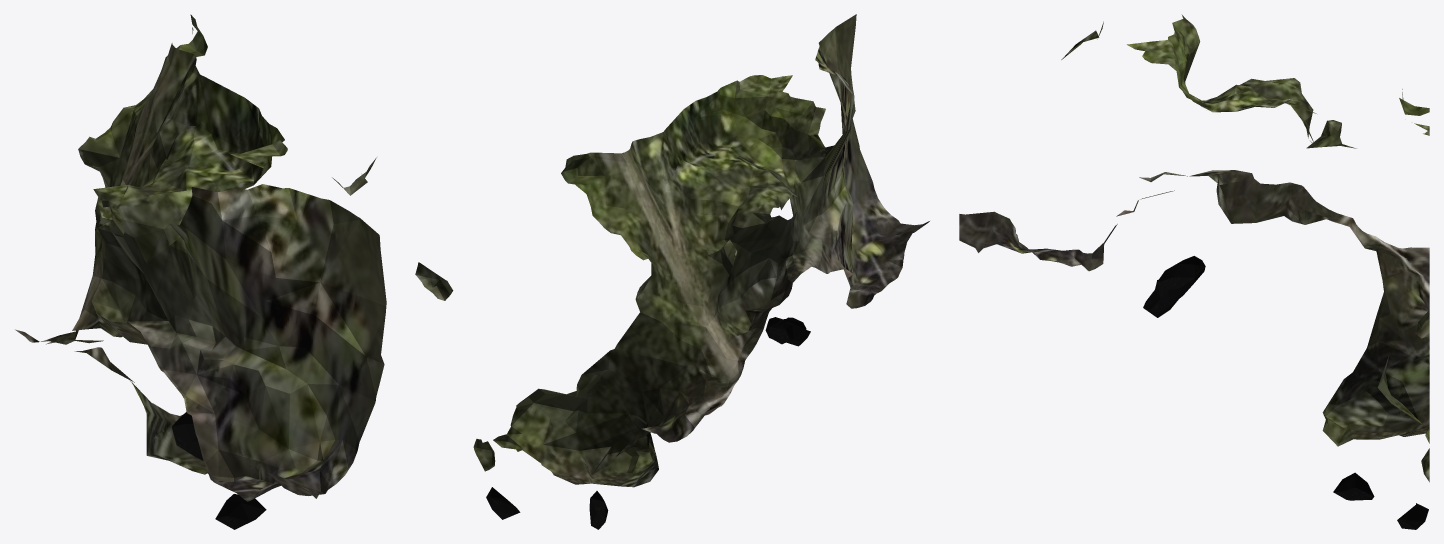
3 renders of one model, left to right at view 1: azimuth 30°, elevation 25°; view 2: azimuth 150°, elevation 25°; view 3: azimuth 270°, elevation 25°, orthographic. The views are drawn at different scales.
Size of the model in its own units: 2.26 by 2.86 by 2.95.
2 materials, 2 textured.
